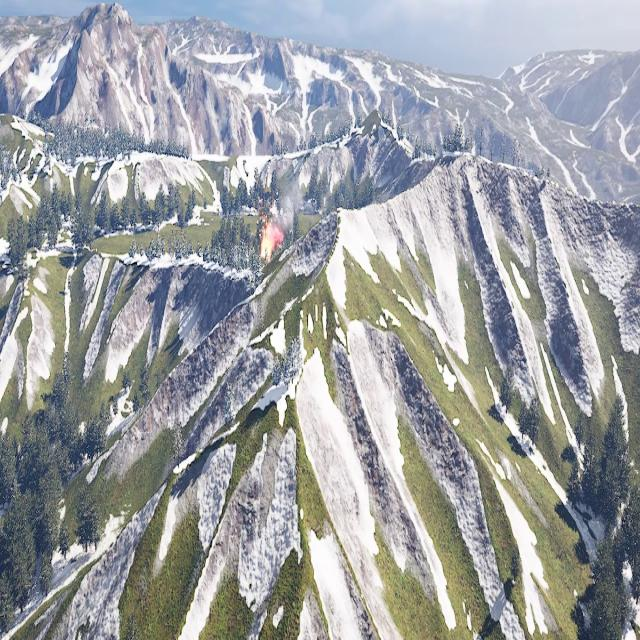fire: (262, 226, 279, 258)
smoke: (269, 175, 306, 236)
